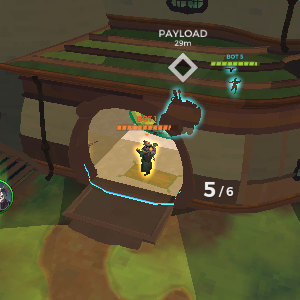model: (133, 137, 159, 180)
